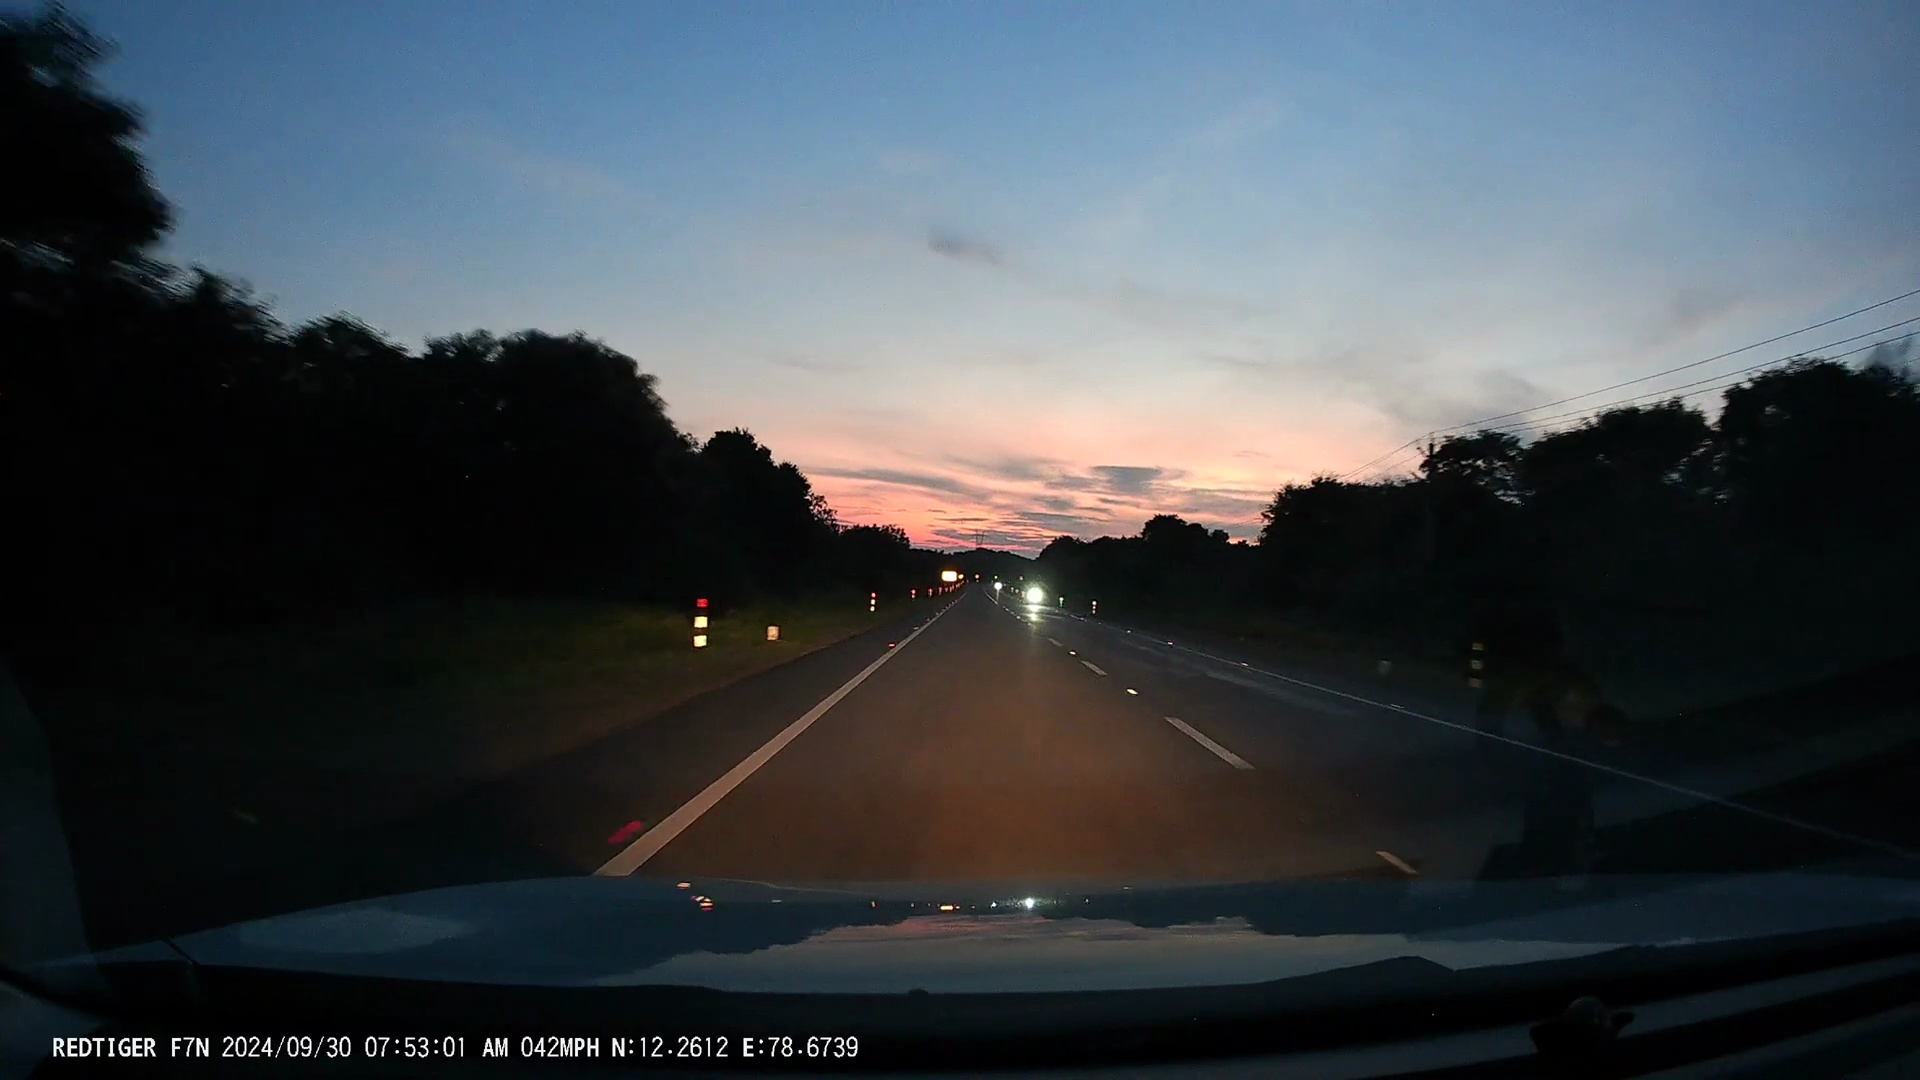headlight: (1029, 587, 1044, 603), (993, 582, 1005, 591)
two wheeler: (1021, 578, 1052, 611), (992, 575, 1004, 597)
